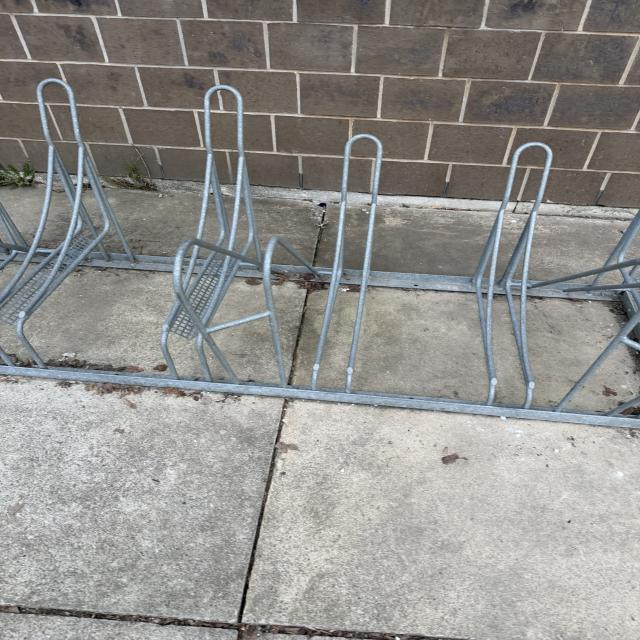Bicycle Rack: (0, 78, 640, 426)
